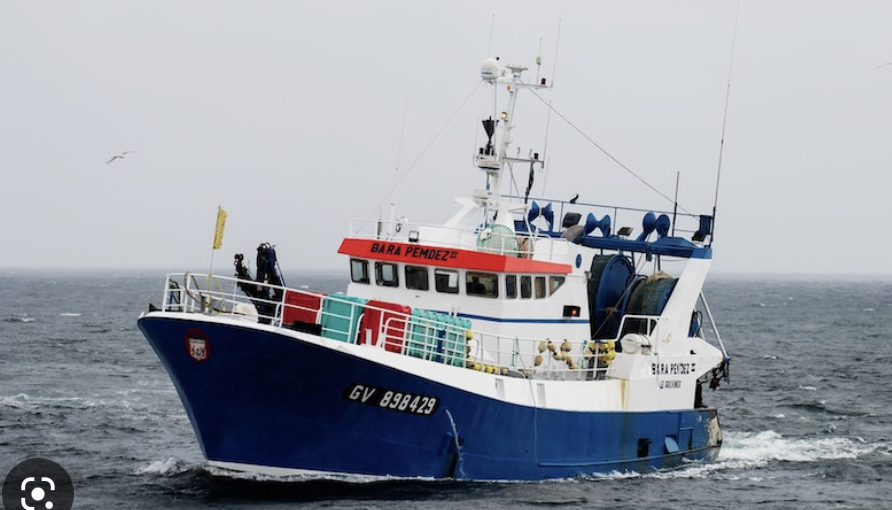ship: (109, 34, 764, 476)
